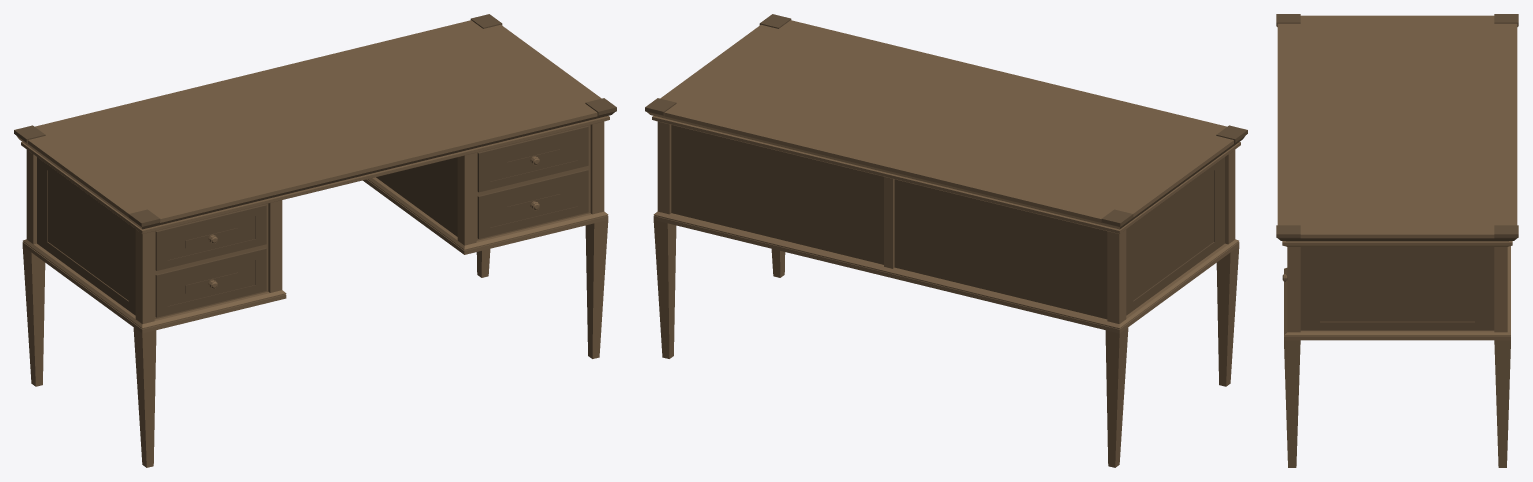
Rendered from Desk.gltf.
The picture shows the model from 3 angles, left to right: view 1: azimuth 30°, elevation 25°; view 2: azimuth 150°, elevation 25°; view 3: azimuth 270°, elevation 25°; orthographic projection. The views are drawn at different scales.
Visible parts, largest first — view 1: Desk, Desk_Drawer4, Desk_Drawer2, Desk_Drawer3, Desk_Drawer1; view 2: Desk; view 3: Desk.
Boxes of the visible parts, x1,y1,x2,y2 form: Desk: [14, 14, 616, 467]; Desk_Drawer4: [155, 248, 266, 317]; Desk_Drawer2: [477, 169, 588, 238]; Desk_Drawer3: [155, 204, 266, 270]; Desk_Drawer1: [477, 126, 588, 192]; Desk: [645, 14, 1247, 467]; Desk: [1276, 14, 1518, 467].
Bounding box in the file's own units: 1.82 × 0.9225 × 0.8466.
